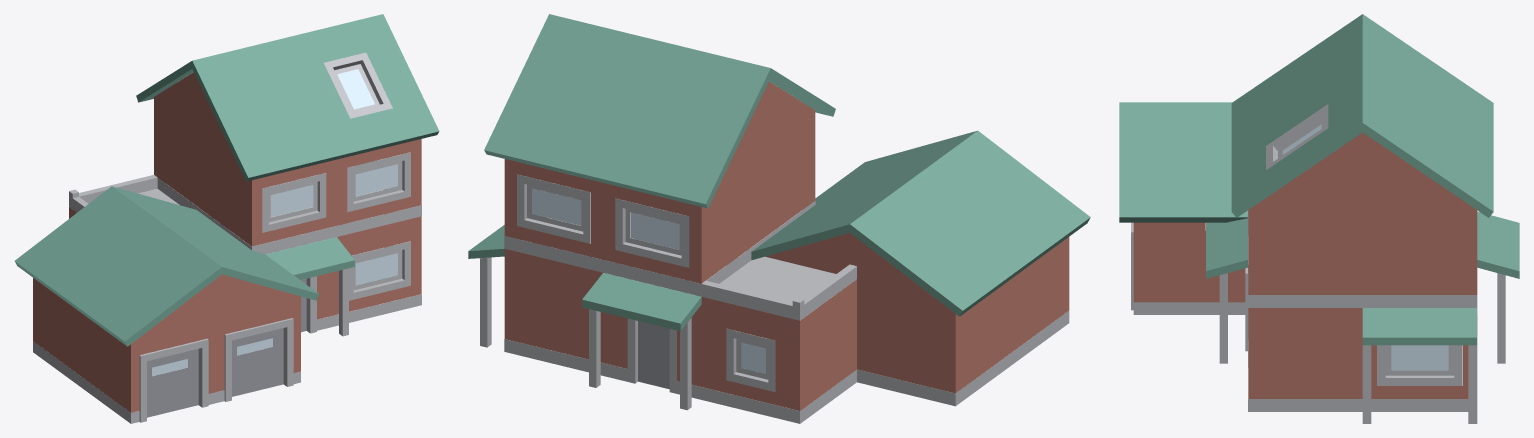
The model's file is house._textures.gltf.
3 views of the same model, side by side, from view 1: azimuth 30°, elevation 25°; view 2: azimuth 150°, elevation 25°; view 3: azimuth 270°, elevation 25° (orthographic). The views are drawn at different scales.
Visible parts, largest first — view 1: house_type10; view 2: house_type10; view 3: house_type10.
Part boxes in pixels (box(x1,y1,x2,y2)): house_type10: box(14, 14, 439, 423); house_type10: box(468, 14, 1090, 423); house_type10: box(1119, 14, 1519, 423).
Size of the model in its own units: 1.81 by 1.14 by 1.4.
